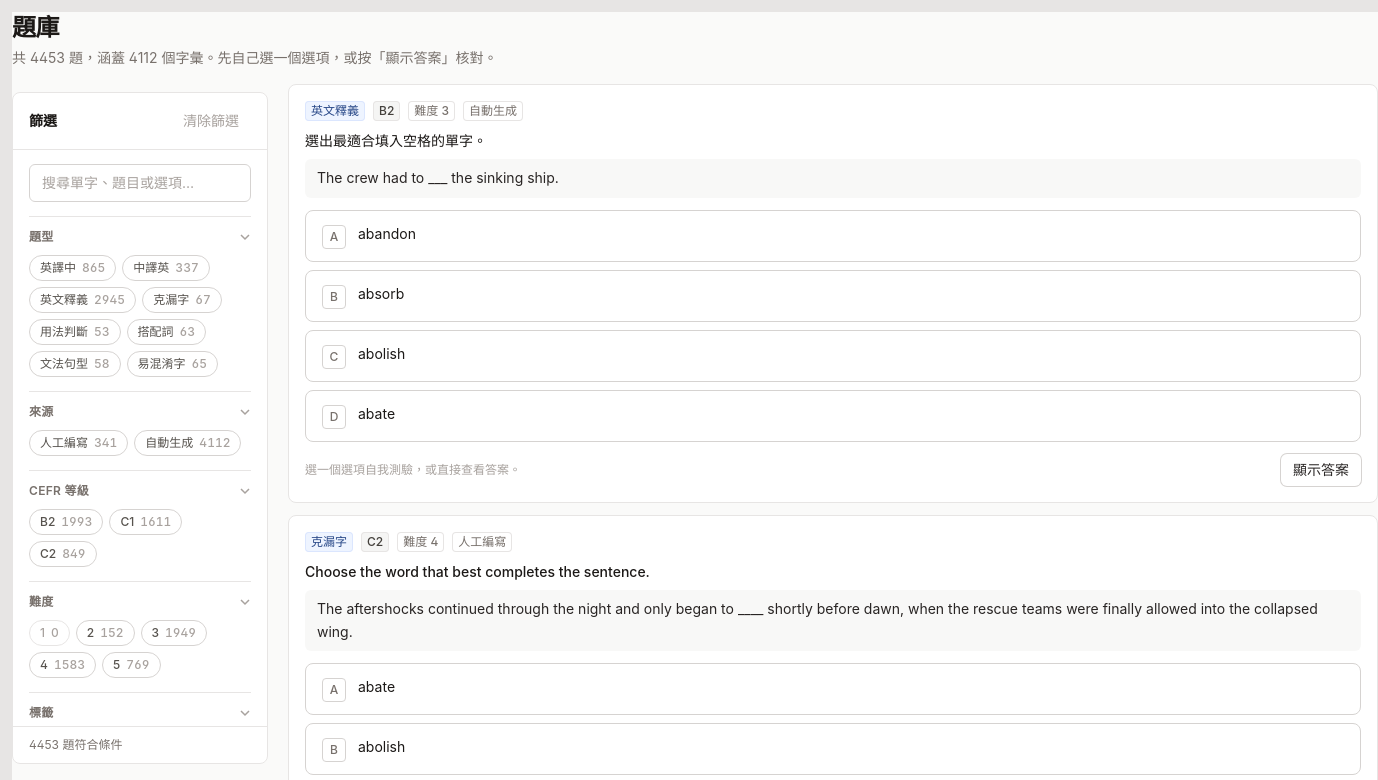
Test: QuestionBankPage › checks a chosen option and can hide the answer again
Expected: the heading "題庫" is shown, [12,13,59,42]
Click the button "A abandon" at [387, 233], box [305,210,1361,262]
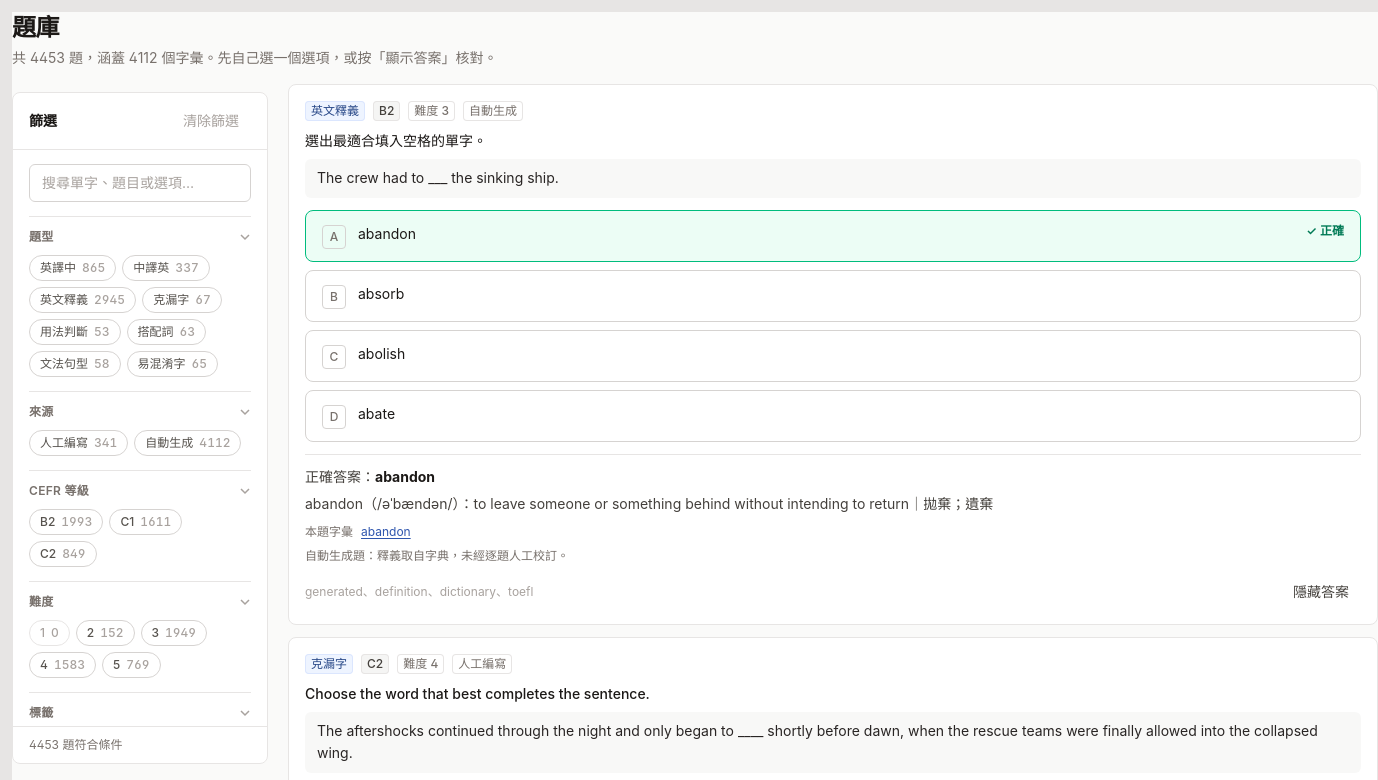
Result: the text "正確答案：abandon" is shown at [305,468,435,485]
Result: the text "✓ 正確" is shown at [1306,223,1344,239]
Result: the button "A abandon ✓ 正確" is disabled at [305,210,1361,262]
Click the button "隱藏答案" at [1321, 592], box [1281,576,1361,608]
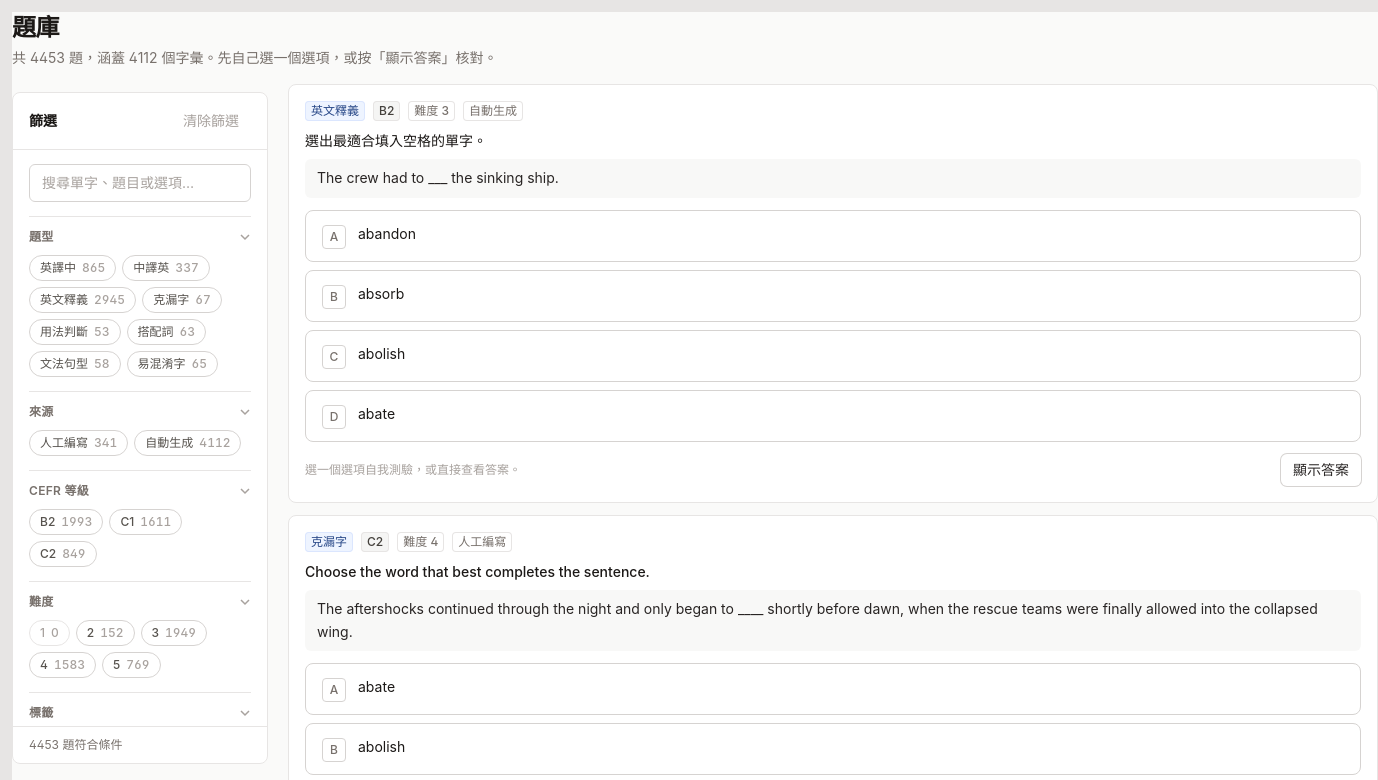
Result: the text "正確答案" is gone
